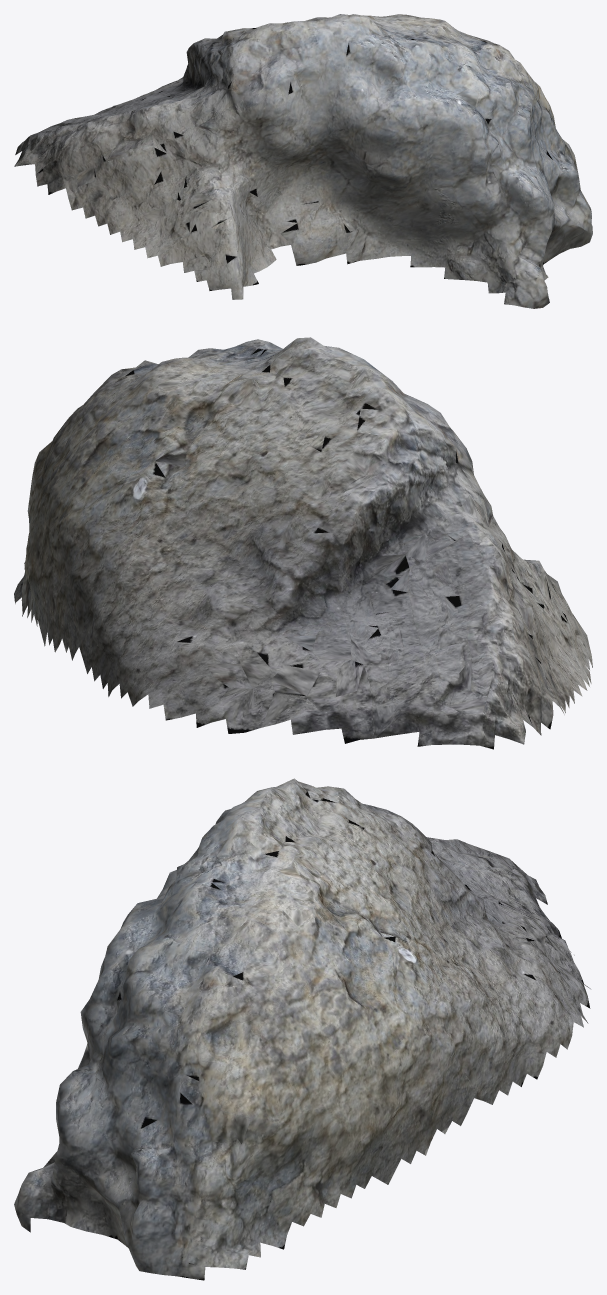
3 renders of one model, top to bottom at view 1: azimuth 30°, elevation 25°; view 2: azimuth 150°, elevation 25°; view 3: azimuth 270°, elevation 25°, orthographic. The views are drawn at different scales.
Parts seen in each view (by area): view 1: Half-buried Concrete 04; view 2: Half-buried Concrete 04; view 3: Half-buried Concrete 04.
Part boxes in pixels (x1,y1,x2,y2): Half-buried Concrete 04: [14, 14, 592, 308]; Half-buried Concrete 04: [14, 337, 592, 749]; Half-buried Concrete 04: [14, 778, 590, 1280].
Size of the model in its own units: 1.19 by 0.6273 by 0.9686.
1 material, 1 textured.
